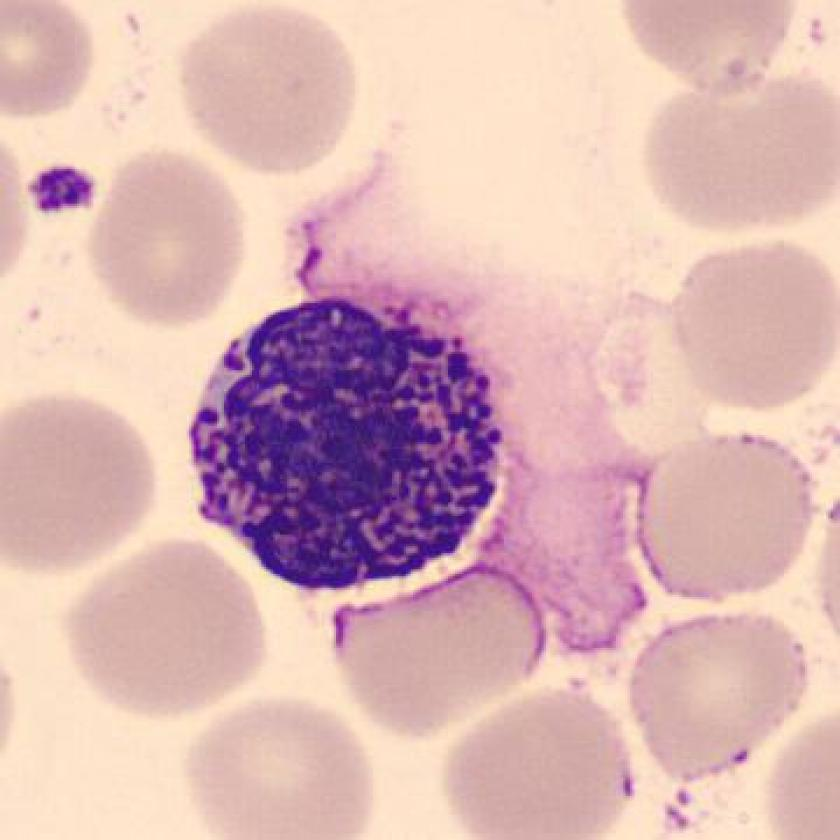basophil: (183, 290, 512, 603)
